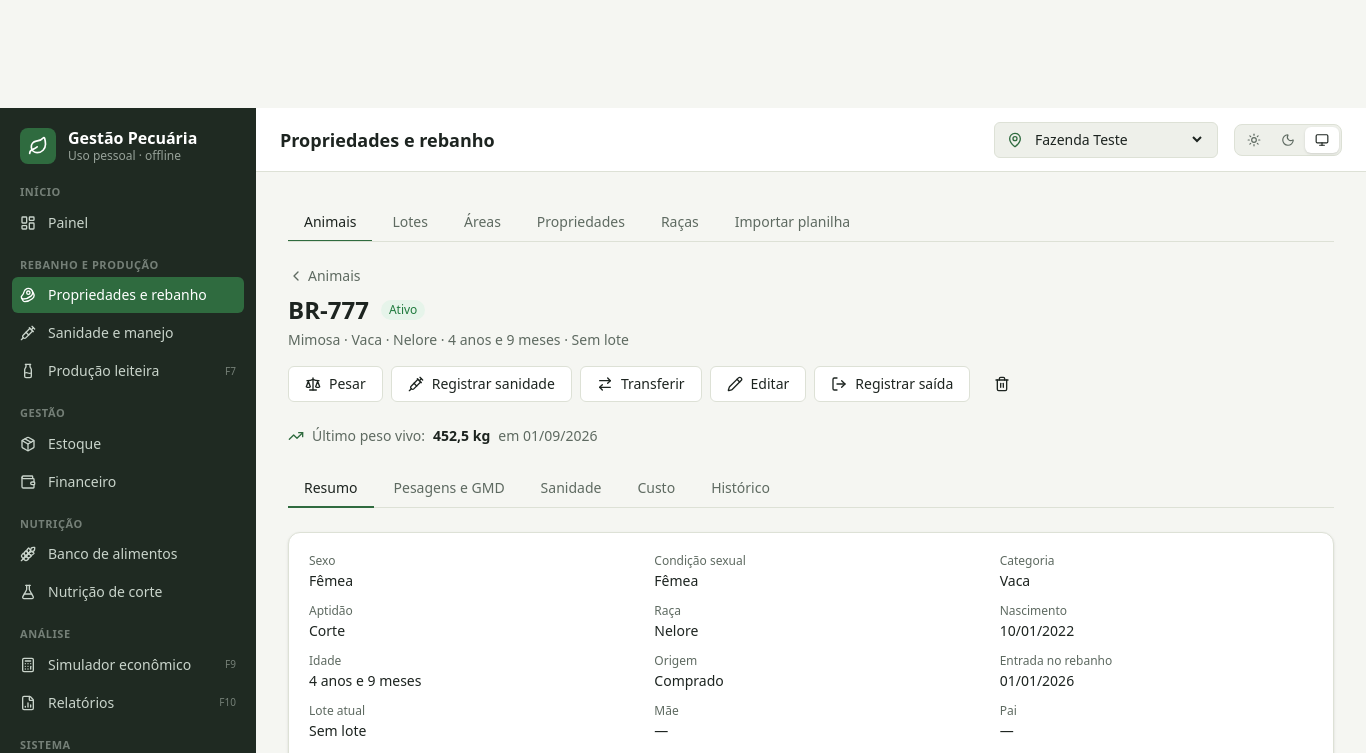
Test: telas do rebanho › pesagem sem peso informa que o campo é obrigatório
(page scrolled)
Step 1. Click the button "Pesar" → (335, 384), box [288,366,383,402]
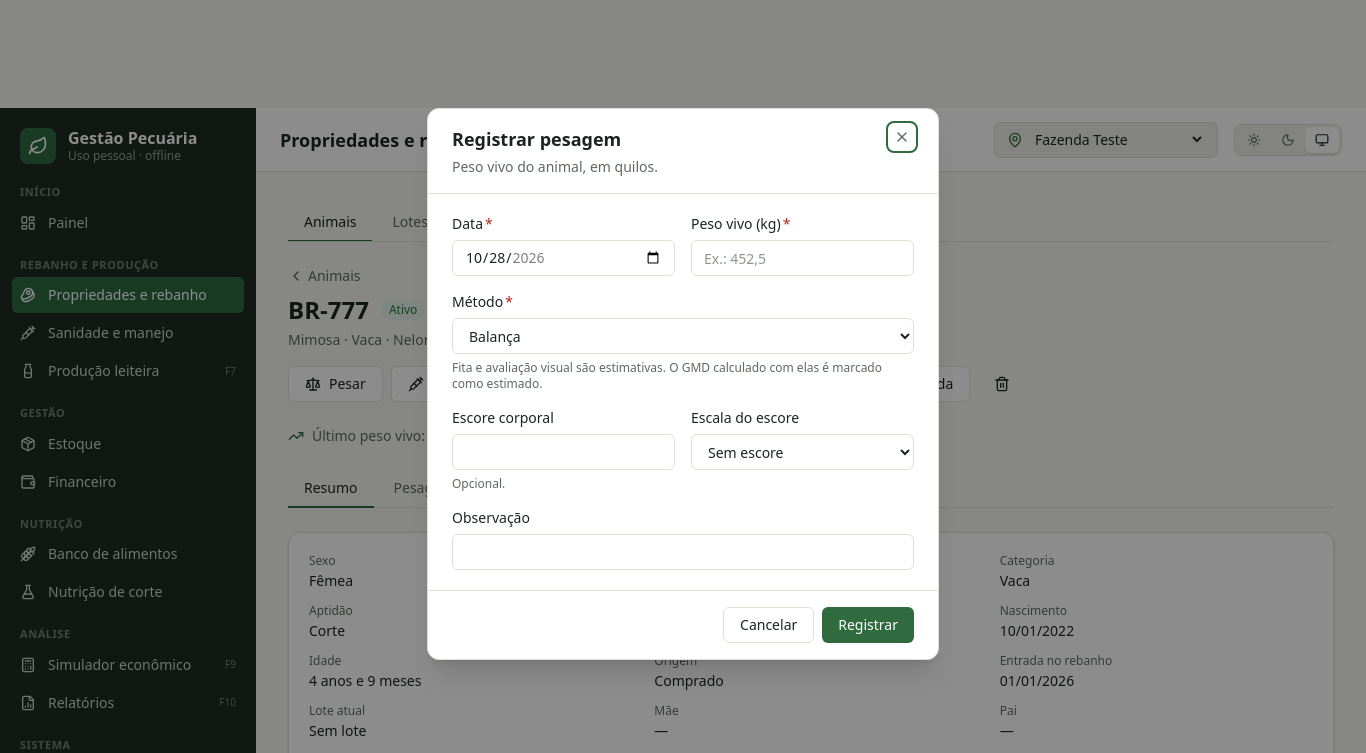
Step 2. Click the button "Registrar" → (868, 625), box [822,607,914,643]
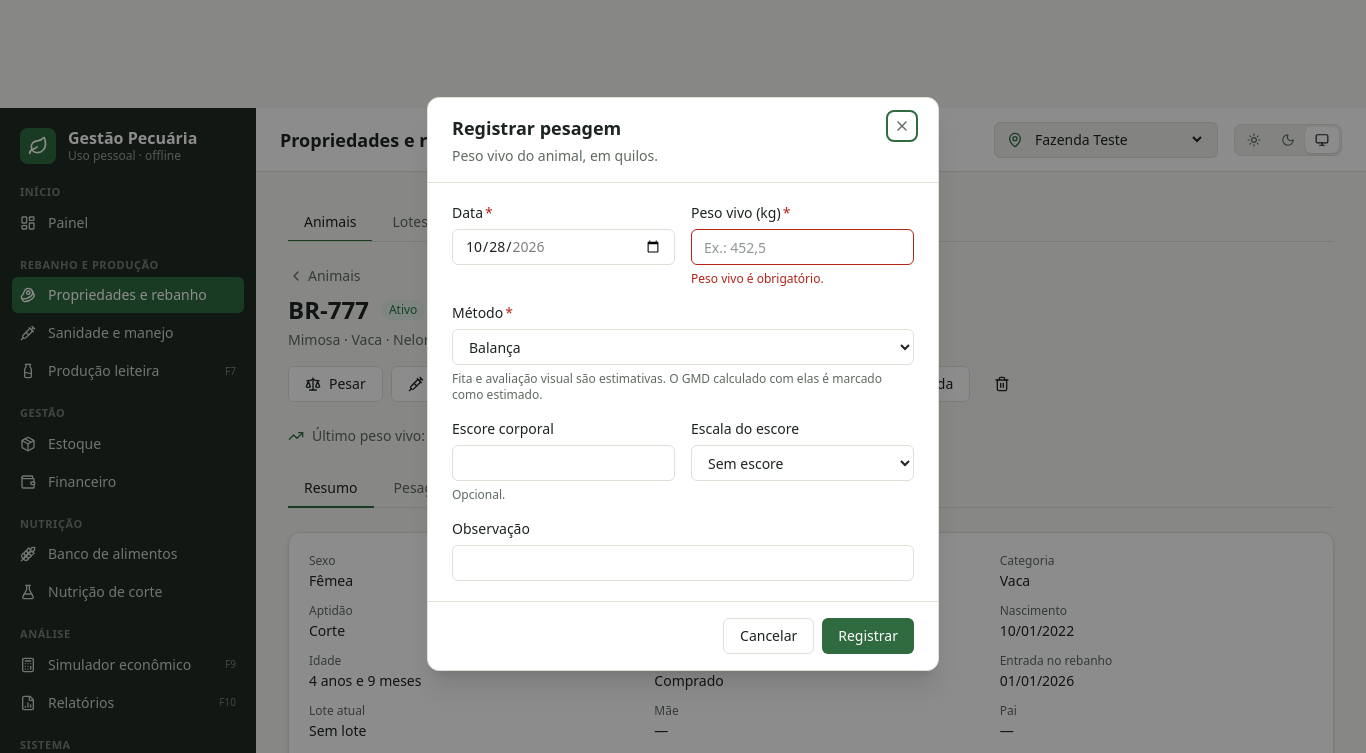
Now the text "Peso vivo é obrigatório." is shown, box [691,270,824,287]
